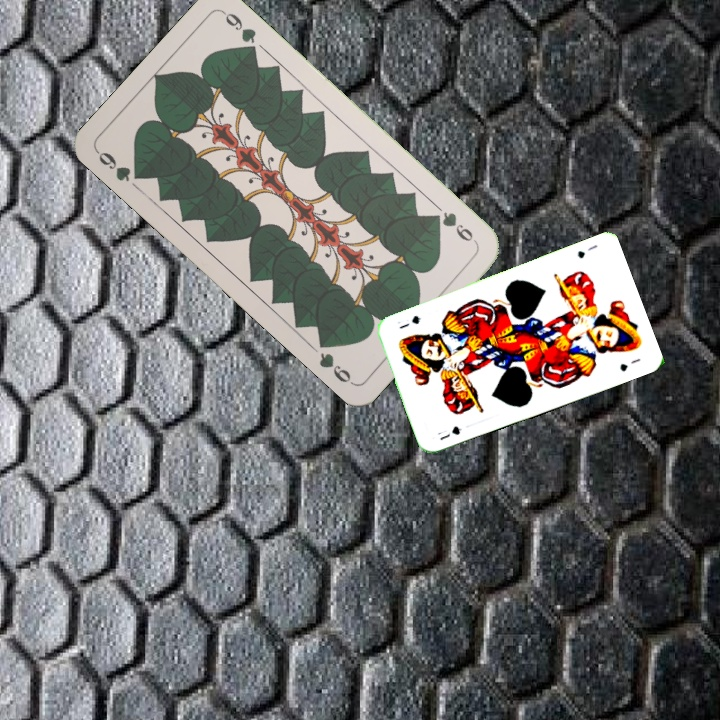G9: (428, 207, 481, 248), (93, 147, 148, 185)
GU: (436, 422, 464, 443), (573, 240, 600, 261)
